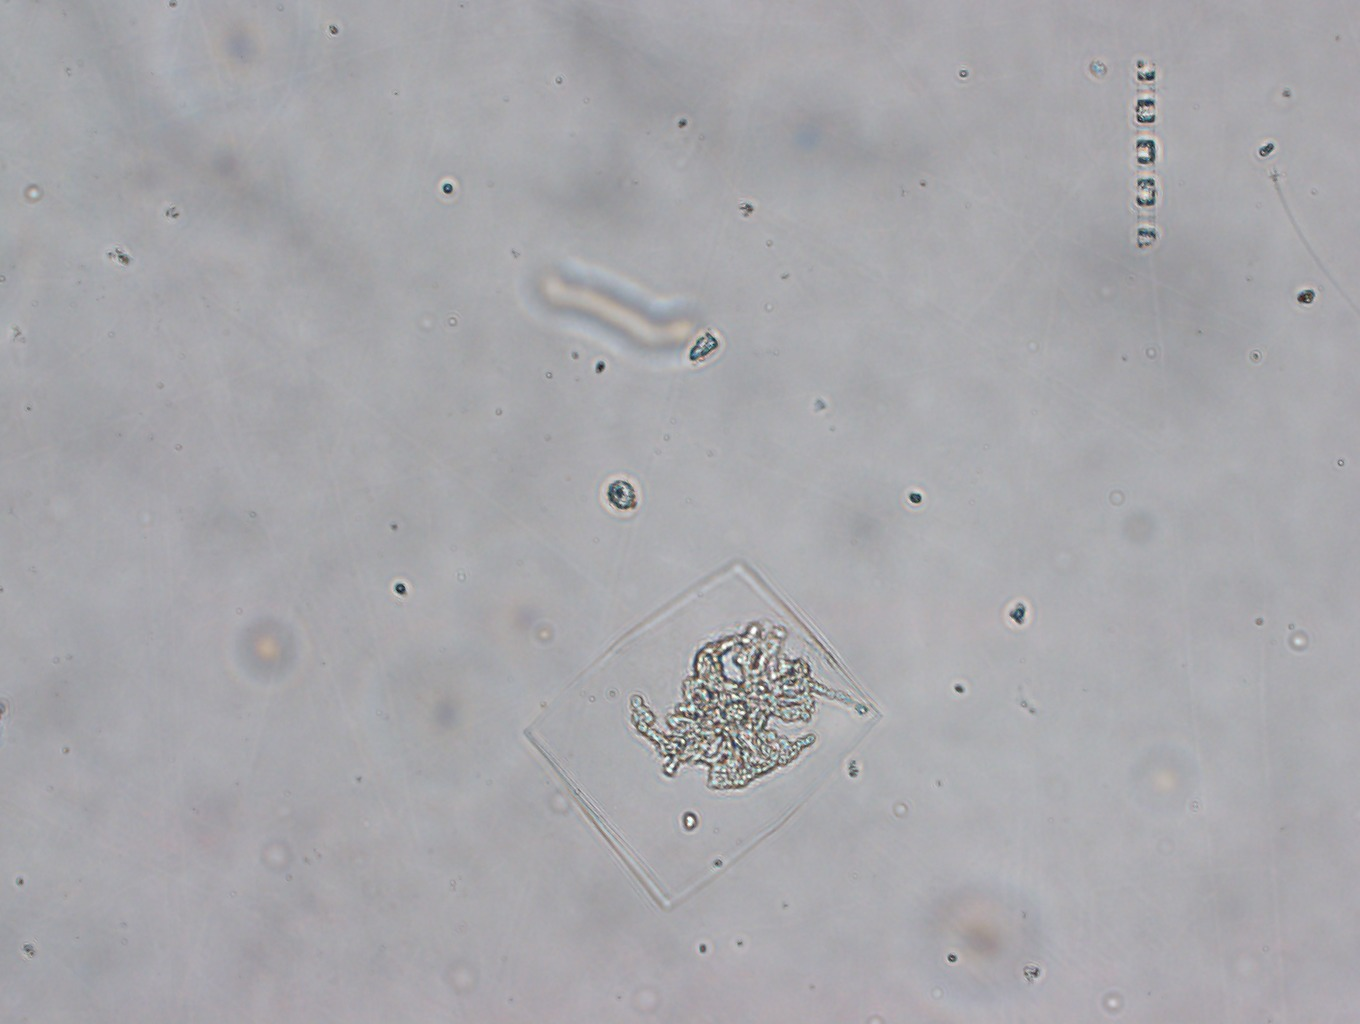helicotheca: (522, 558, 883, 912)
skeletonema: (1130, 57, 1159, 256)
